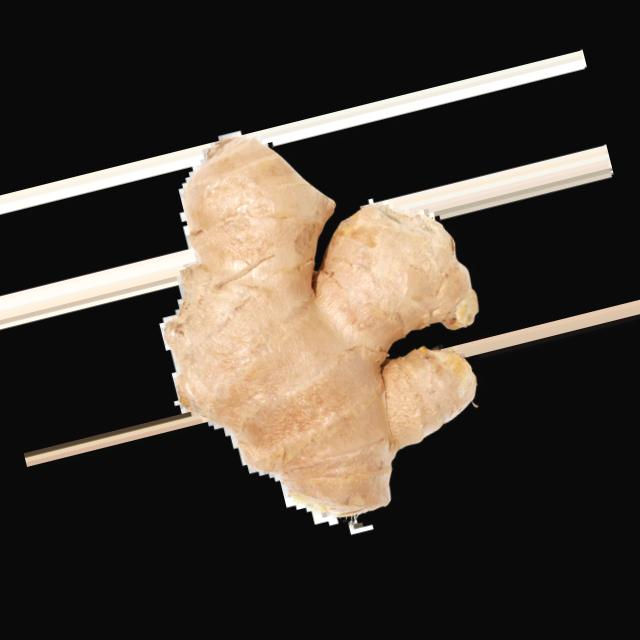ginger-root: (70, 63, 562, 590)
